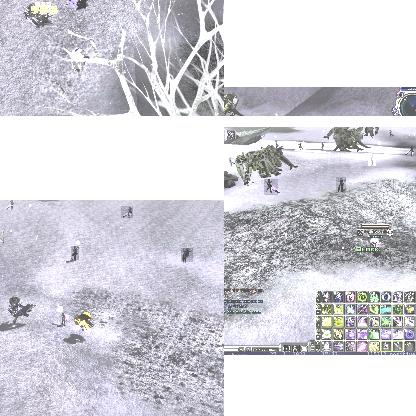caliana: (264, 179, 278, 195), (72, 51, 84, 69), (67, 0, 86, 9), (181, 248, 193, 262), (336, 177, 346, 193), (121, 206, 133, 218), (71, 246, 79, 260), (404, 146, 414, 156), (368, 154, 376, 166), (4, 200, 13, 210), (226, 157, 234, 167), (298, 142, 304, 152), (388, 129, 394, 137), (274, 141, 282, 147), (0, 230, 3, 242), (320, 141, 324, 149)
